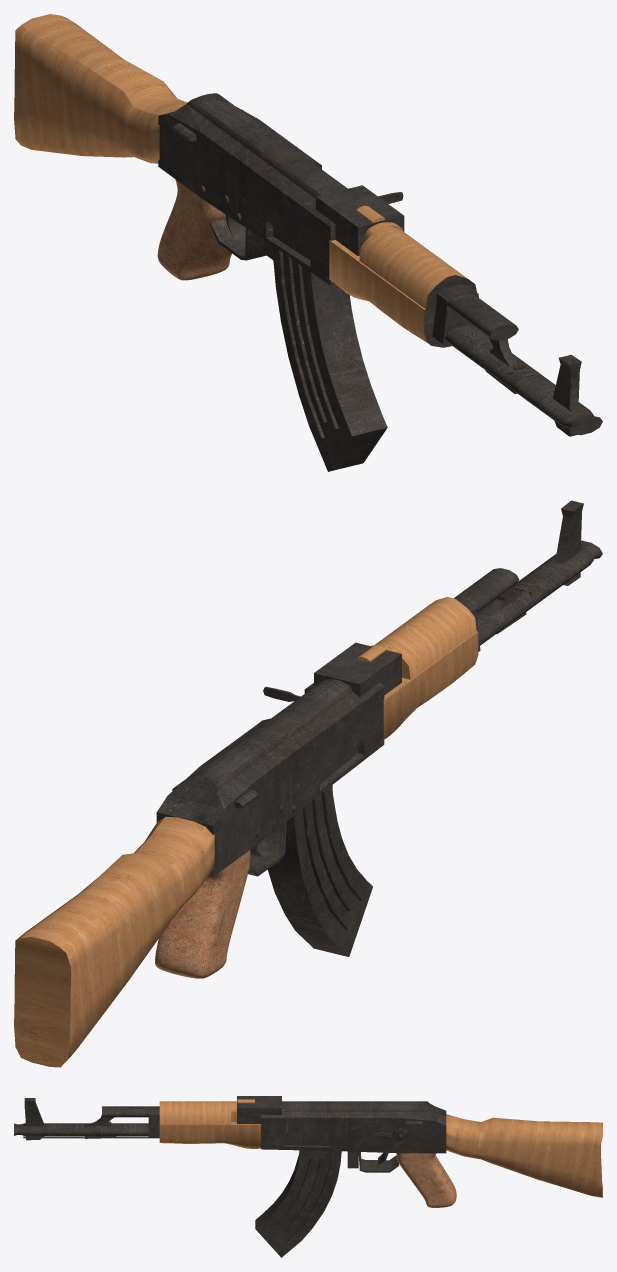
Rendered from Assault.FBX.
The picture shows the model from 3 angles, top to bottom: view 1: azimuth 30°, elevation 25°; view 2: azimuth 150°, elevation 25°; view 3: azimuth 270°, elevation 25°; orthographic projection. The views are drawn at different scales.
Parts seen in each view (by area): view 1: AK-47, Cartridge, Handle; view 2: AK-47, Cartridge, Handle; view 3: AK-47, Cartridge, Handle.
Part boxes in pixels (box(x1,y1,x2,y2)): AK-47: box(14, 14, 602, 436); Cartridge: box(272, 246, 387, 471); Handle: box(157, 179, 231, 280); AK-47: box(14, 500, 602, 1067); Cartridge: box(267, 785, 372, 956); Handle: box(155, 850, 250, 978); AK-47: box(14, 1096, 602, 1197); Cartridge: box(255, 1150, 341, 1257); Handle: box(396, 1153, 456, 1207).
Bounding box in the file's own units: 10.07 × 25.75 × 90.74.
Materials: 1 (1 with a texture image).
